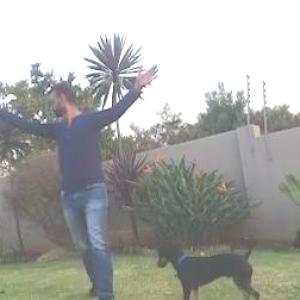takeoff: (1, 64, 160, 288)
